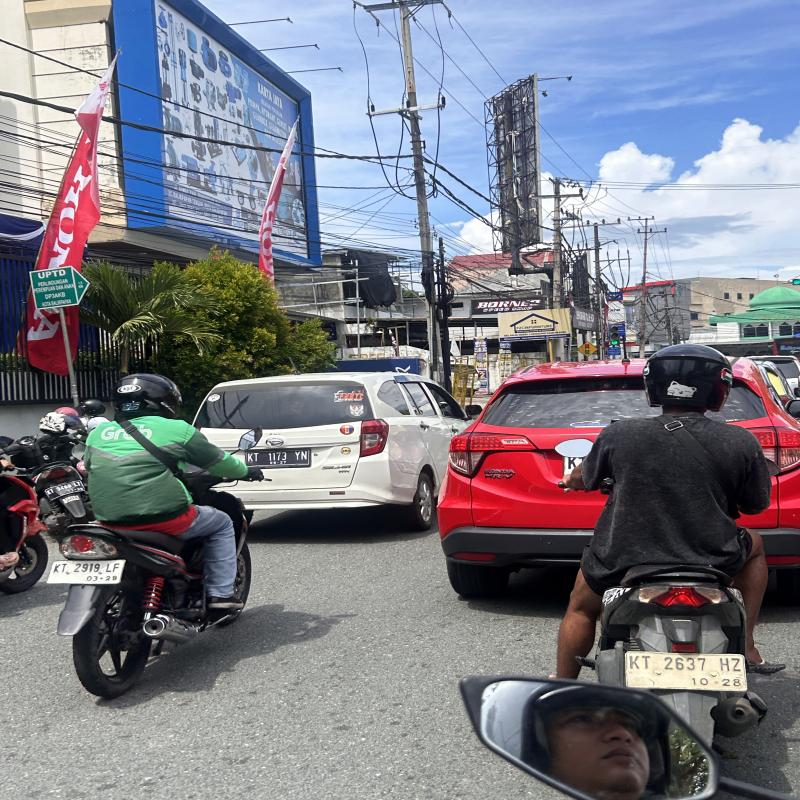license plate on a car: (246, 451, 311, 467)
